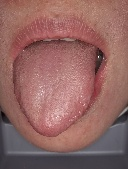tongue: (11, 47, 95, 139)
